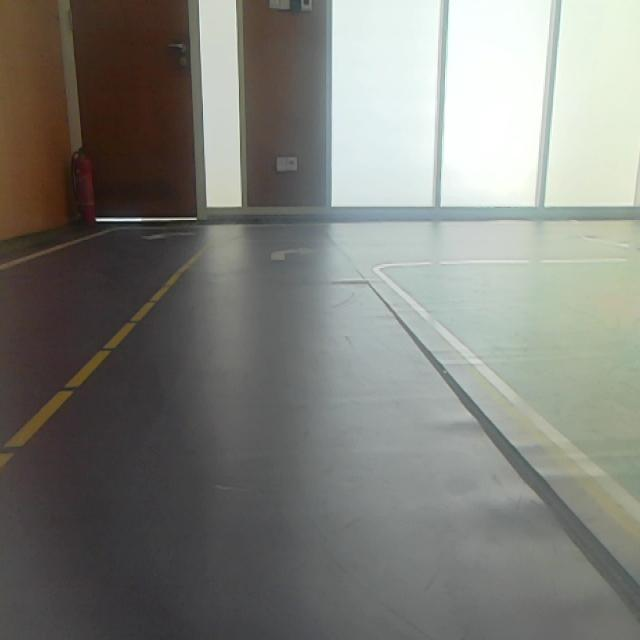left_lane: (0, 247, 209, 472)
right_lane: (376, 271, 640, 541)
